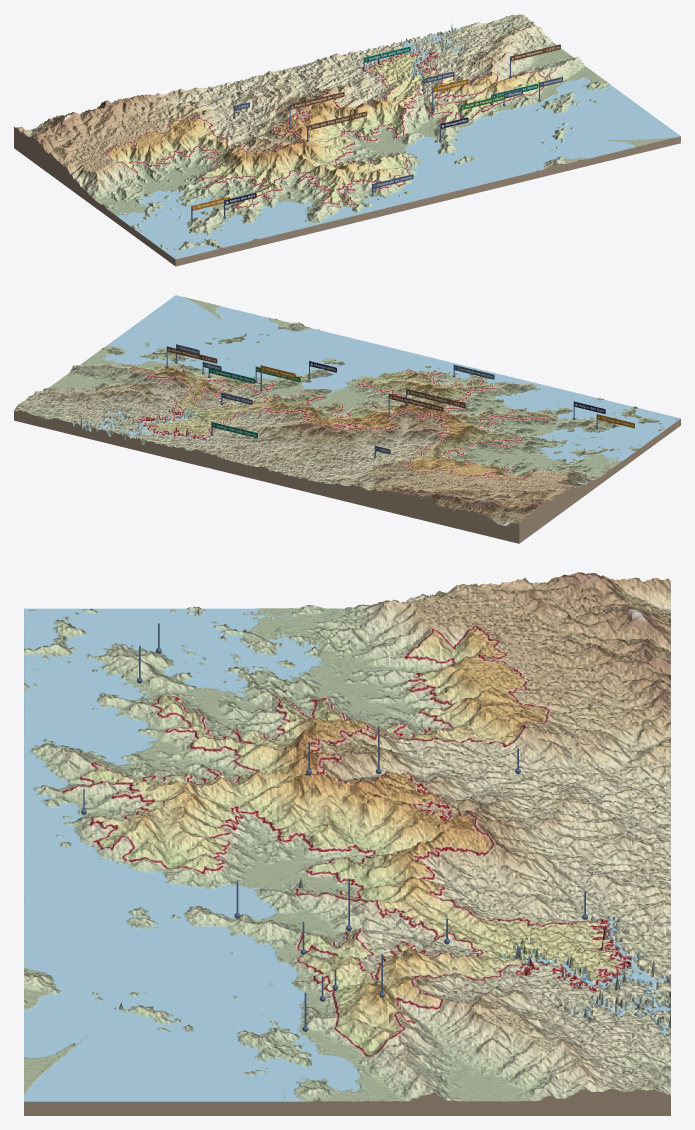
The model's file is cunhambebe.glb.
3 views of the same model, one above another, from view 1: azimuth 30°, elevation 25°; view 2: azimuth 150°, elevation 25°; view 3: azimuth 270°, elevation 25° (orthographic). The views are drawn at different scales.
Parts seen in each view (by area): view 1: relevo, base, bandeiras, hastes; view 2: relevo, base, bandeiras, hastes; view 3: relevo, base, hastes.
Part boxes in pixels (x1,y1,x2,y2): relevo: [15, 14, 680, 259]; base: [14, 126, 680, 266]; bandeiras: [192, 44, 562, 210]; hastes: [190, 56, 540, 220]; relevo: [14, 295, 680, 525]; base: [14, 410, 680, 543]; bandeiras: [167, 344, 634, 454]; hastes: [165, 344, 598, 458]; relevo: [24, 572, 670, 1101]; base: [24, 1088, 670, 1115]; hastes: [81, 623, 587, 1031].
Bounding box in the file's own units: 0.6 × 0.0537 × 0.3327.
4 materials, 2 textured.
